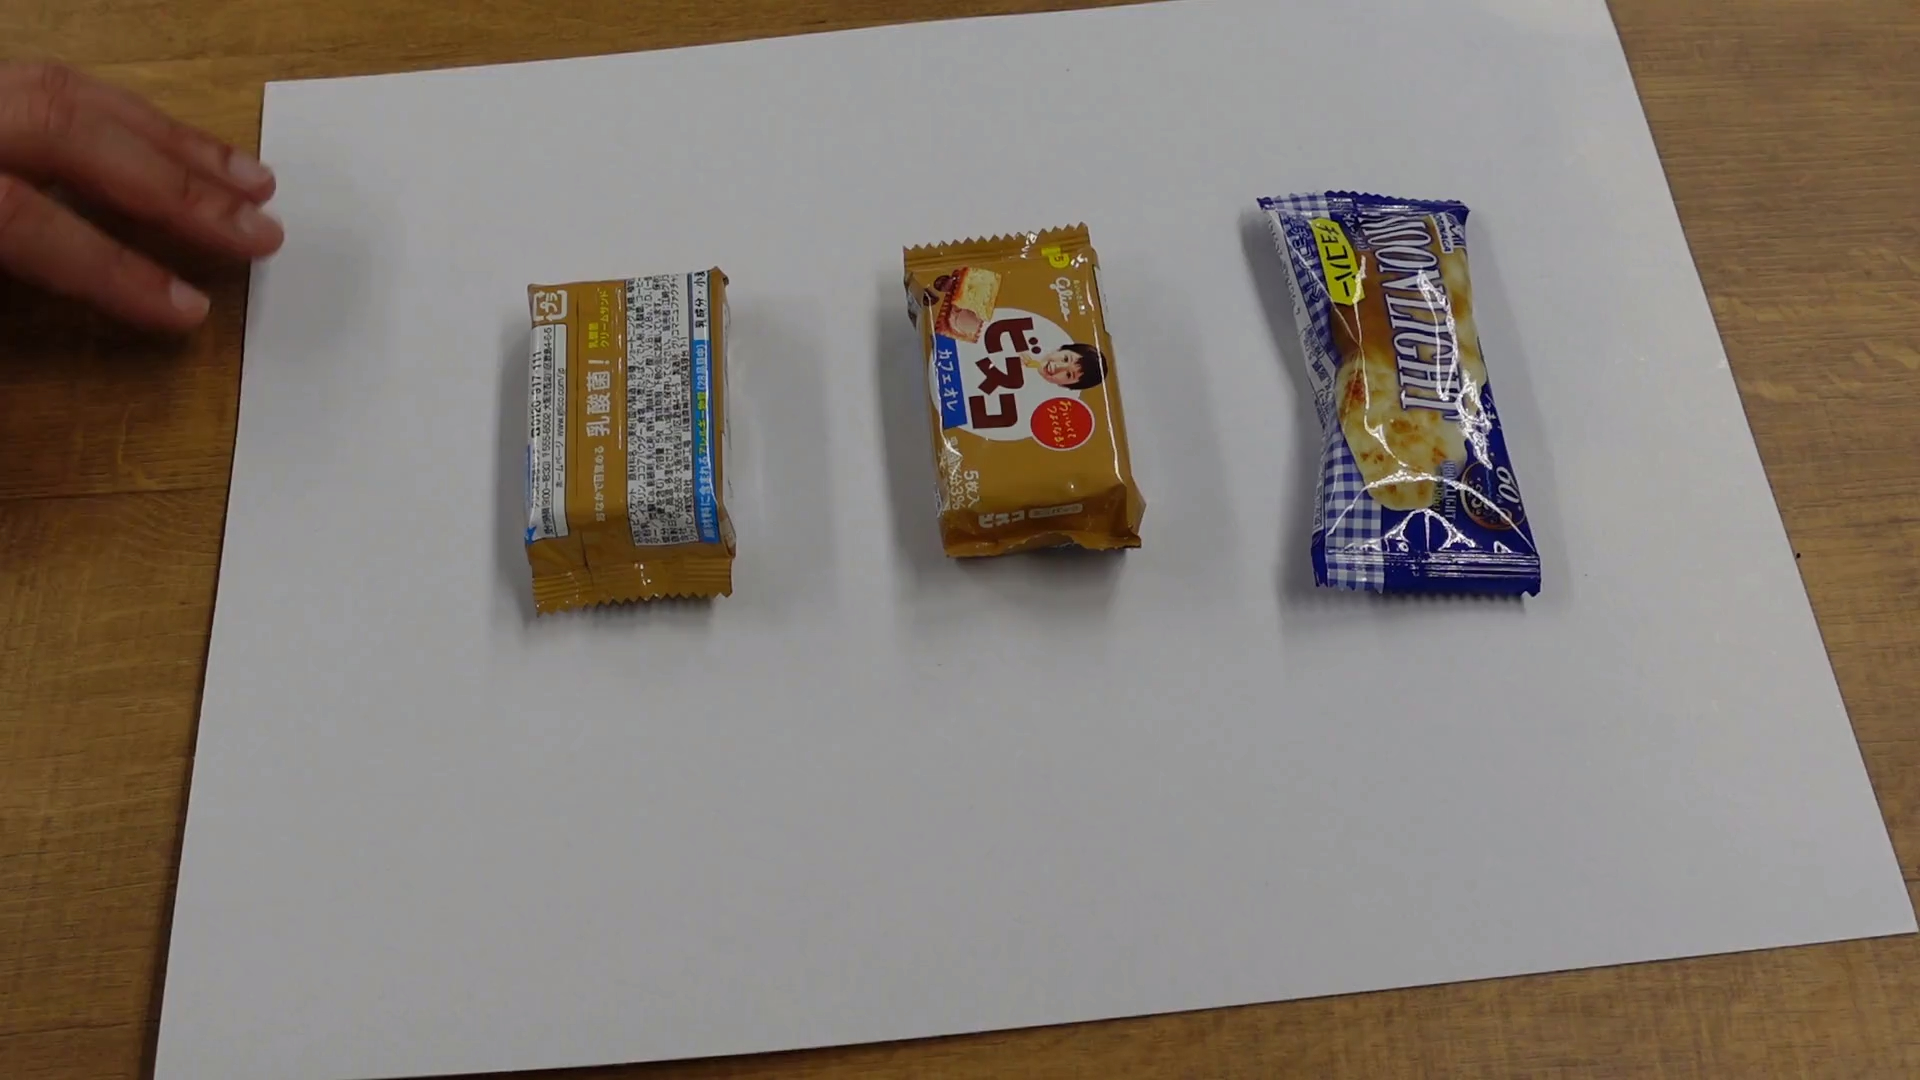BISCO_CafeAuLet: (907, 236, 1139, 555), (524, 274, 728, 604)
